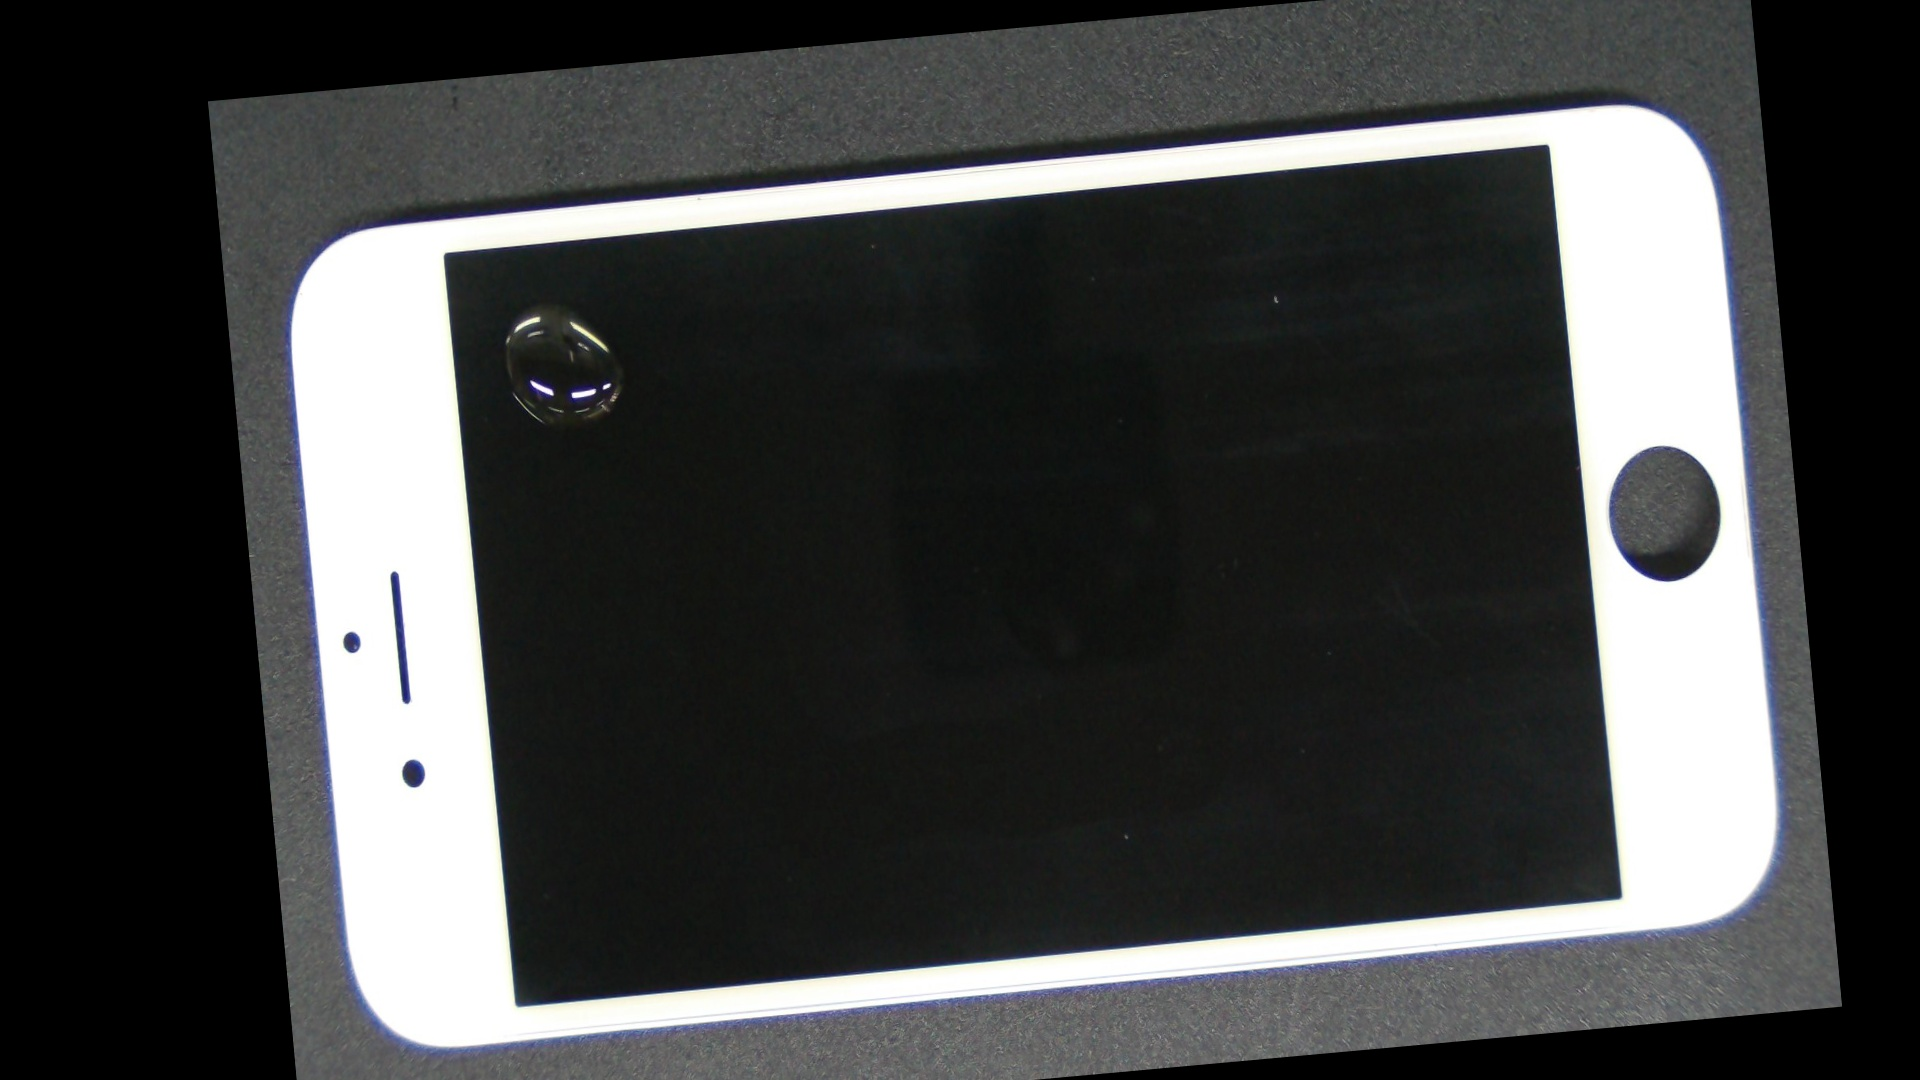oil: (375, 174, 707, 433)
